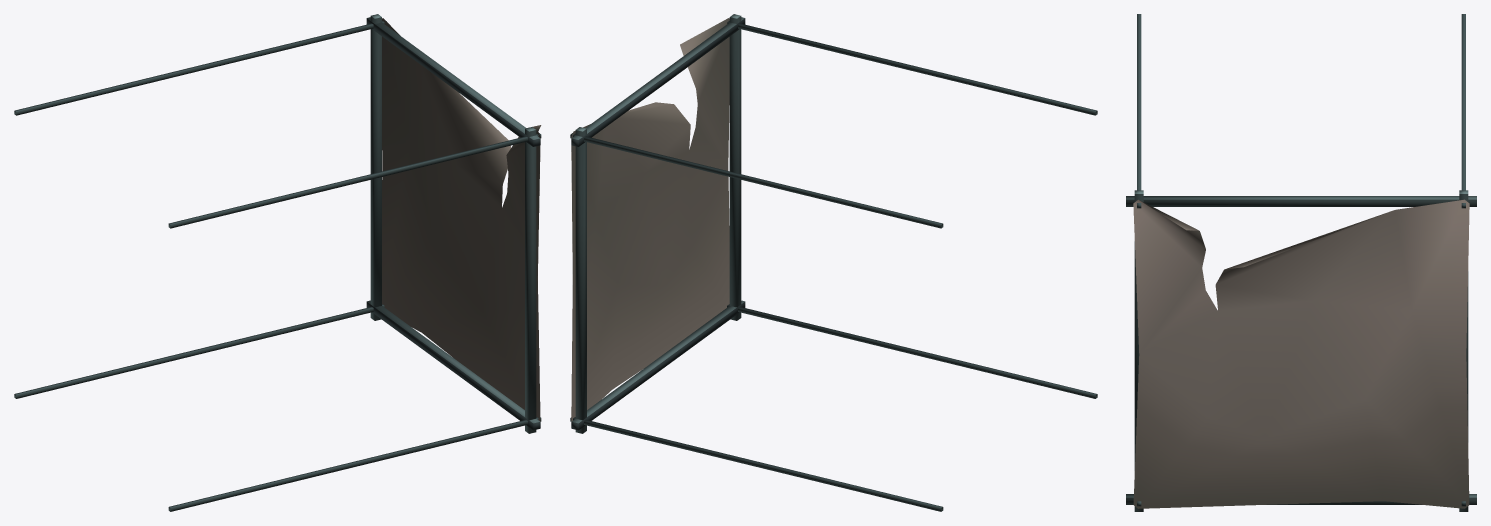
Rendered from Safety_Net_1D.fbx.
3 renders of one model, left to right at view 1: azimuth 30°, elevation 25°; view 2: azimuth 150°, elevation 25°; view 3: azimuth 270°, elevation 25°, orthographic. The views are drawn at different scales.
Parts seen in each view (by area): view 1: Safety_Net_1D; view 2: Safety_Net_1D; view 3: Safety_Net_1D.
Boxes of the visible parts, x1=… form: Safety_Net_1D: x1=14, y1=14, x2=541, y2=511; Safety_Net_1D: x1=570, y1=14, x2=1097, y2=511; Safety_Net_1D: x1=1126, y1=14, x2=1476, y2=511.
Size of the model in its own units: 546 by 400 by 400.
